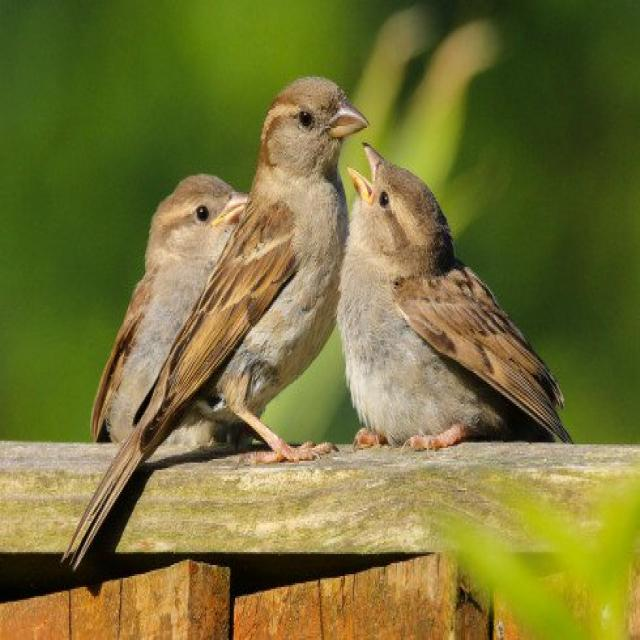Sparrow: (66, 63, 371, 570), (341, 136, 568, 464)
